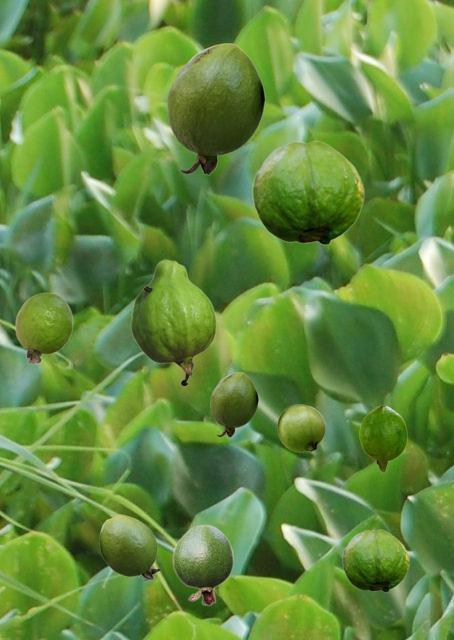guava: (167, 43, 264, 174), (252, 140, 363, 244), (130, 259, 215, 385), (172, 524, 233, 605), (342, 529, 408, 591), (15, 292, 72, 363), (99, 514, 160, 578), (359, 405, 406, 471), (210, 372, 257, 436), (277, 404, 324, 451)
